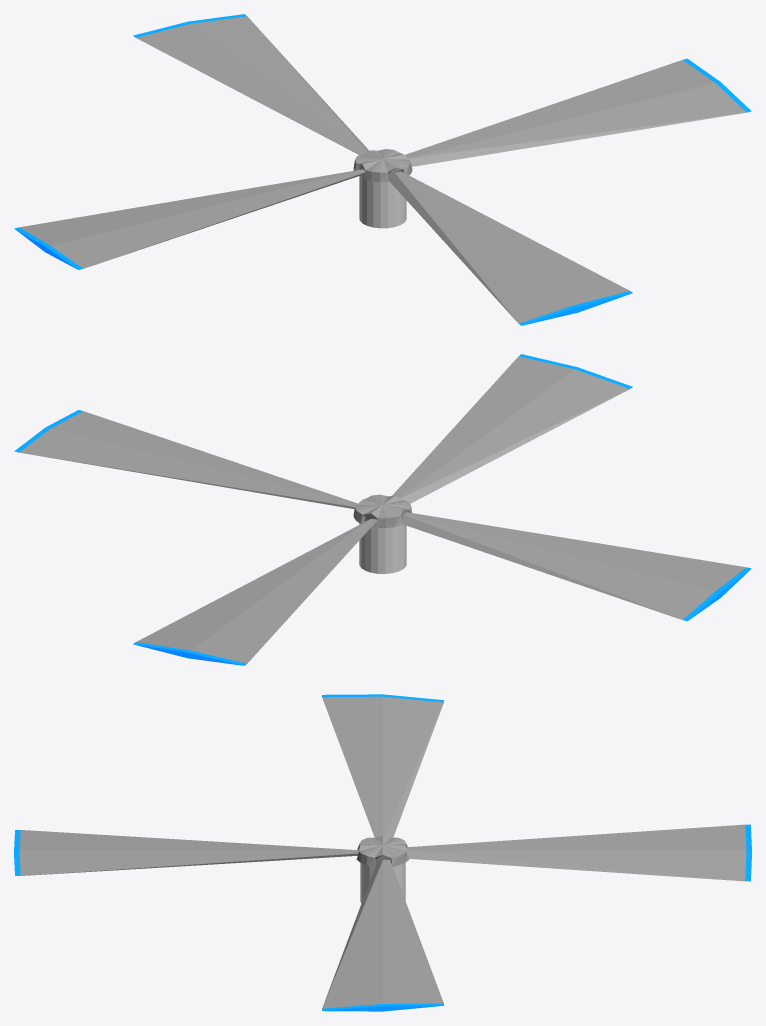
The model's file is Rotor.fbx.
3 renders of one model, top to bottom at view 1: azimuth 30°, elevation 25°; view 2: azimuth 150°, elevation 25°; view 3: azimuth 270°, elevation 25°, orthographic. The views are drawn at different scales.
Visible parts, largest first — view 1: pCylinder3; view 2: pCylinder3; view 3: pCylinder3.
Boxes of the visible parts, box(x1,y1,x2,y2) form: pCylinder3: box(14, 14, 751, 325); pCylinder3: box(14, 354, 751, 665); pCylinder3: box(14, 694, 751, 1011).
Size of the model in its own units: 26.17 by 2.2 by 26.17.
